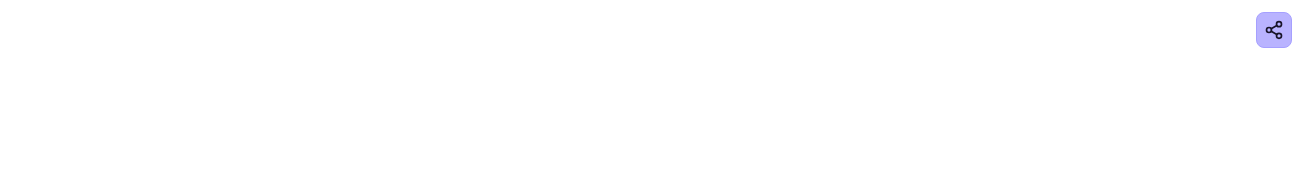
Test case: game sharing › provides a manually copyable URL if clipboard access is denied or unavailable
Earlier steps of the test are not shown.
Step 1. Click the button named "Partager le tirage" → point(1274, 30), box x1=1256 y1=12 x2=1292 y2=48
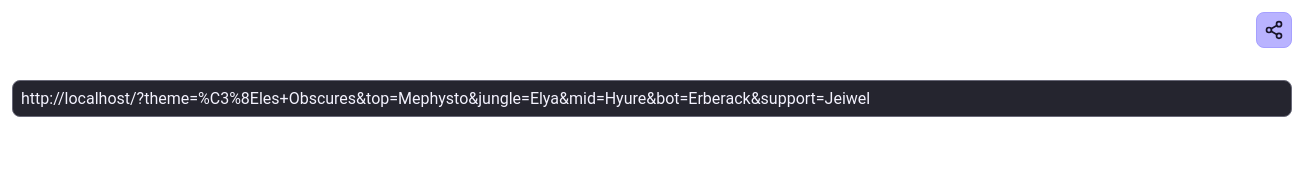
Result: the field named "Lien de partage" is shown at x1=12 y1=80 x2=1292 y2=117
